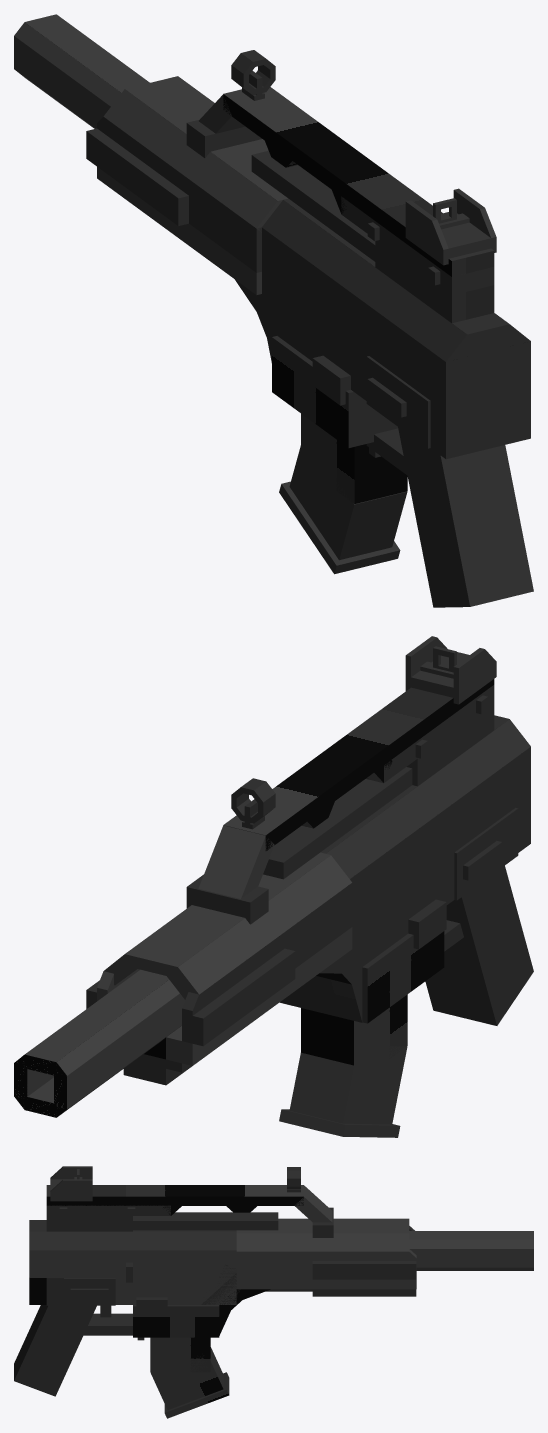
File: mteg_g36c.glb
3 renders of one model, top to bottom at view 1: azimuth 30°, elevation 25°; view 2: azimuth 150°, elevation 25°; view 3: azimuth 270°, elevation 25°, orthographic. The views are drawn at different scales.
Visible parts, largest first — view 1: Gun; view 2: Gun; view 3: Gun.
Part boxes in pixels (bbox=[...]): Gun: bbox=[14, 14, 533, 607]; Gun: bbox=[14, 636, 533, 1137]; Gun: bbox=[14, 1166, 533, 1418].
Bounding box in the file's own units: 0.1375 × 0.4813 × 0.9402.
1 material, 1 textured.
